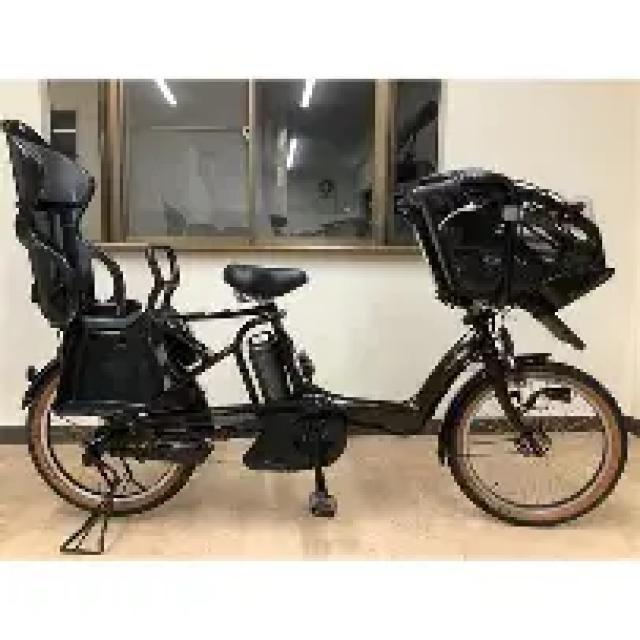battery: (249, 327, 301, 412)
childseat: (0, 112, 215, 429), (394, 172, 610, 309)
